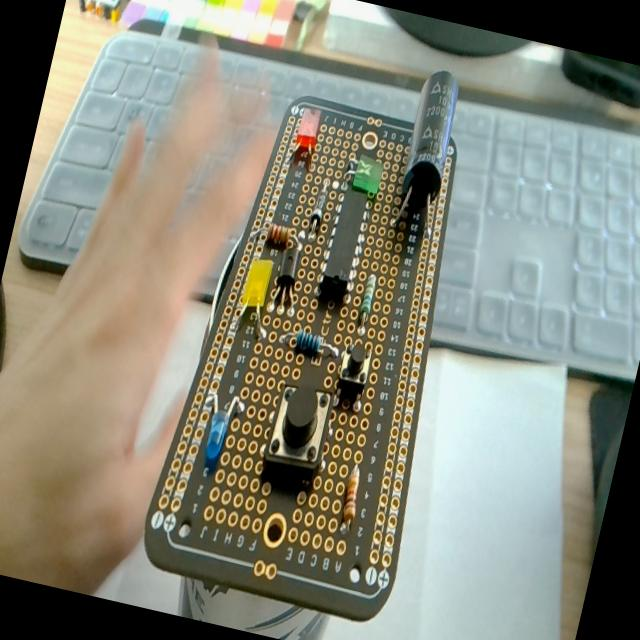Electrolytic capacitor: (386, 65, 470, 238)
IC: (317, 187, 371, 299)
diode: (308, 182, 330, 233)
led: (190, 387, 247, 478), (288, 104, 324, 170), (238, 254, 274, 314), (351, 154, 385, 196)
resistor: (337, 466, 365, 528), (357, 272, 378, 322), (293, 326, 322, 356), (266, 222, 292, 248)
switch: (260, 378, 337, 484), (331, 339, 374, 409)
transistor: (267, 240, 306, 314)
